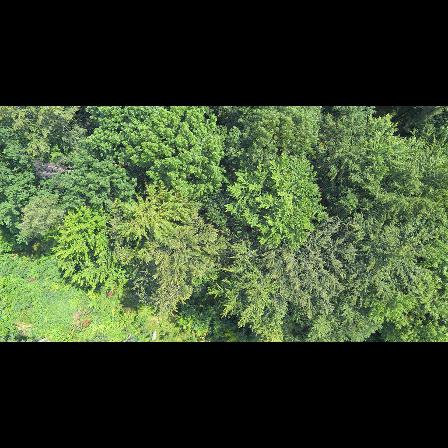Dead: (29, 154, 74, 181)
